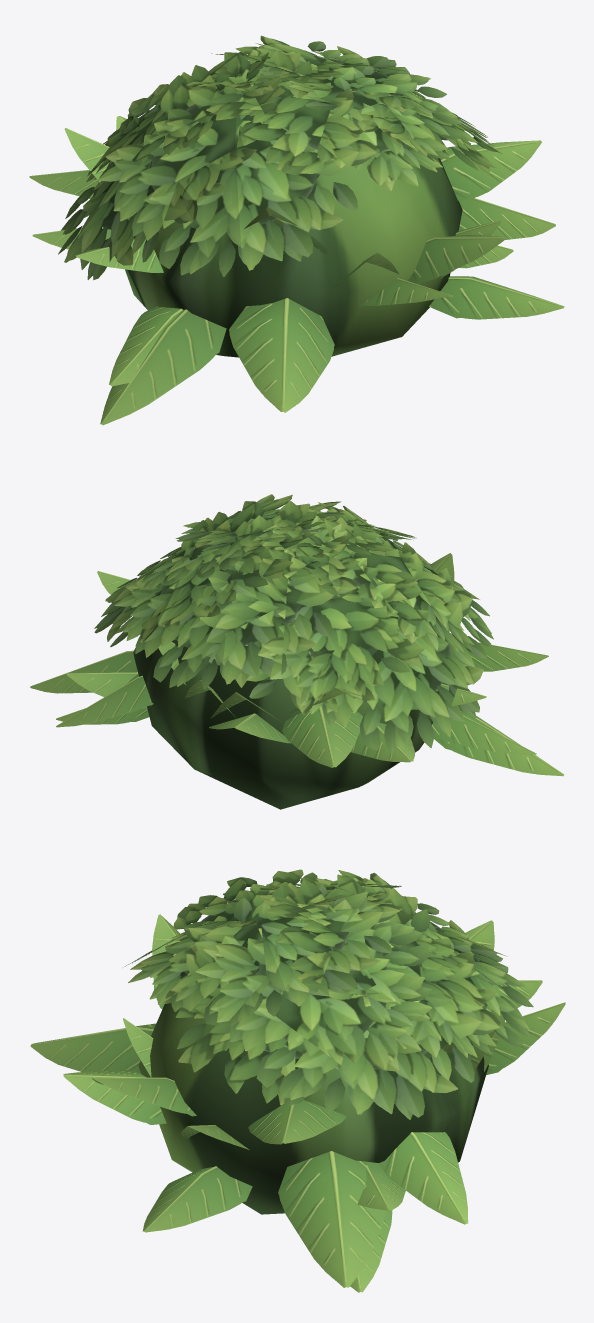
Rendered from shrub_a.glb.
The picture shows the model from 3 angles, top to bottom: view 1: azimuth 30°, elevation 25°; view 2: azimuth 150°, elevation 25°; view 3: azimuth 270°, elevation 25°; orthographic projection. The views are drawn at different scales.
Visible parts, largest first — view 1: shrub_a_mesh; view 2: shrub_a_mesh; view 3: shrub_a_mesh.
Boxes of the visible parts, box(x1,y1,x2,y2) form: shrub_a_mesh: box(29, 35, 564, 425); shrub_a_mesh: box(30, 494, 564, 809); shrub_a_mesh: box(30, 869, 565, 1292).
Size of the model in its own units: 1.1 by 0.6046 by 0.933.
1 material, 1 textured.
